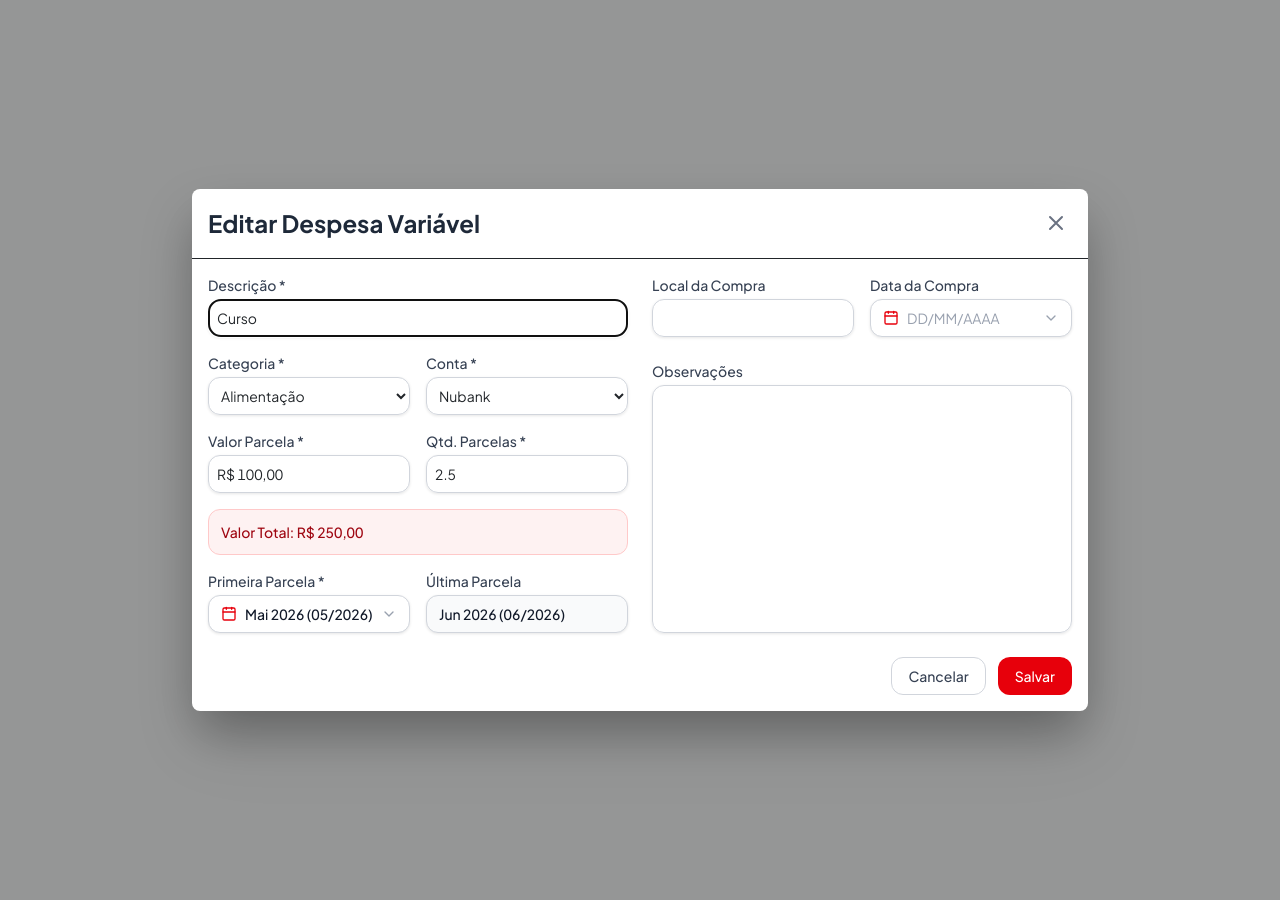
Test: MovimentacaoForm - Componentes Compartilhados › MovimentacaoVariavelFormModal › rejeita quantidade de parcelas decimal/fracionária com mensagem de erro
Click the button "Salvar" at {"x": 1035, "y": 676}, box [998,657,1072,695]
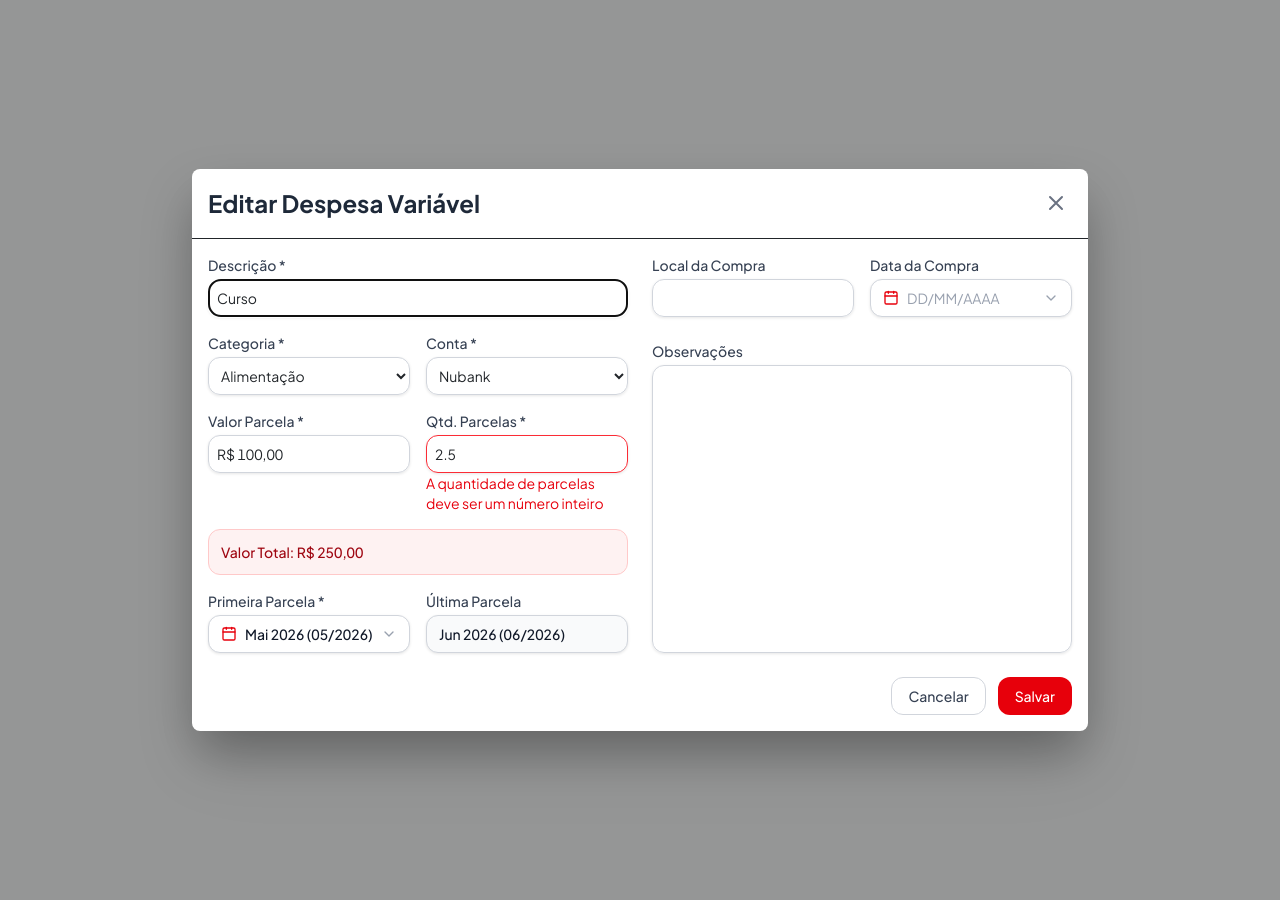
Check: the text "A quantidade de parcelas deve ser um número inteiro" is shown, box [426,473,628,513]
